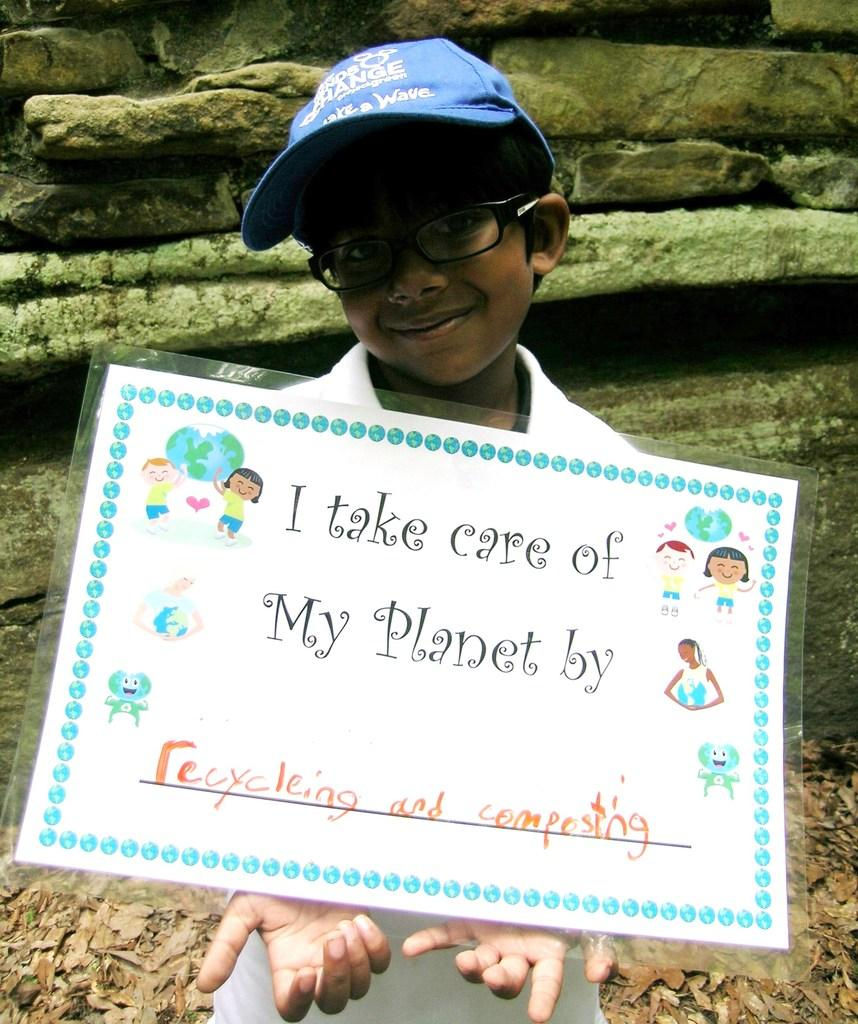Hat: (240, 34, 554, 256)
